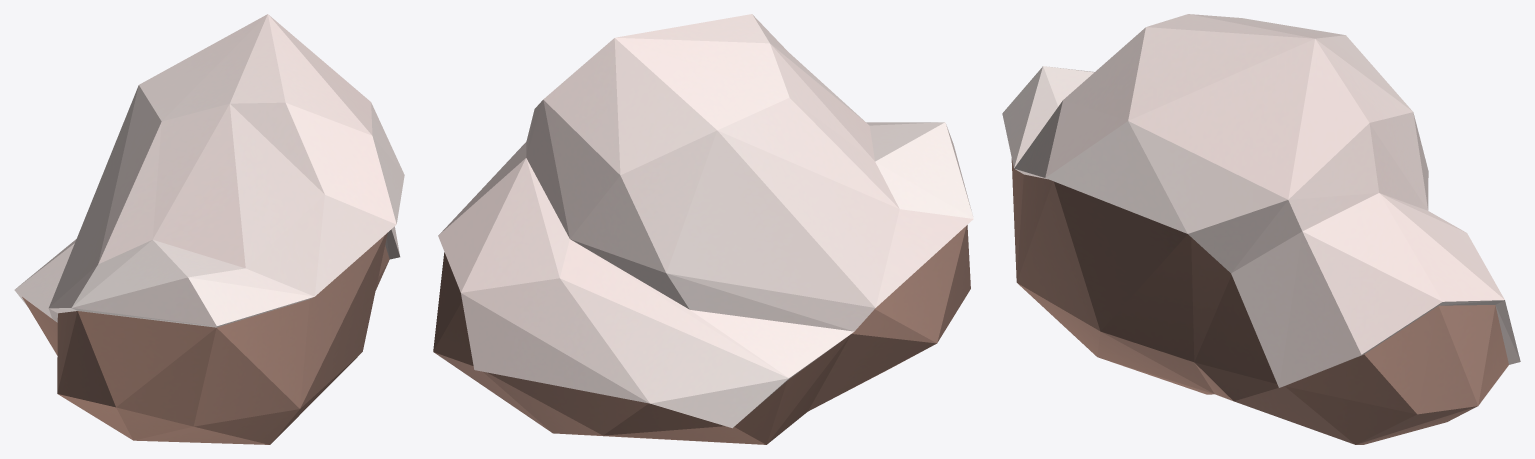
Rendered from Rock_4A.fbx.
3 renders of one model, left to right at view 1: azimuth 30°, elevation 25°; view 2: azimuth 150°, elevation 25°; view 3: azimuth 270°, elevation 25°, orthographic. The views are drawn at different scales.
Parts seen in each view (by area): view 1: Group64604; view 2: Group64604; view 3: Group64604.
Boxes of the visible parts, <box> form: Group64604: <box>14,14,404,444</box>; Group64604: <box>433,14,973,444</box>; Group64604: <box>1002,14,1520,444</box>.
Size of the model in its own units: 2.64 by 2.19 by 2.58.
Materials: 1 (1 with a texture image).
